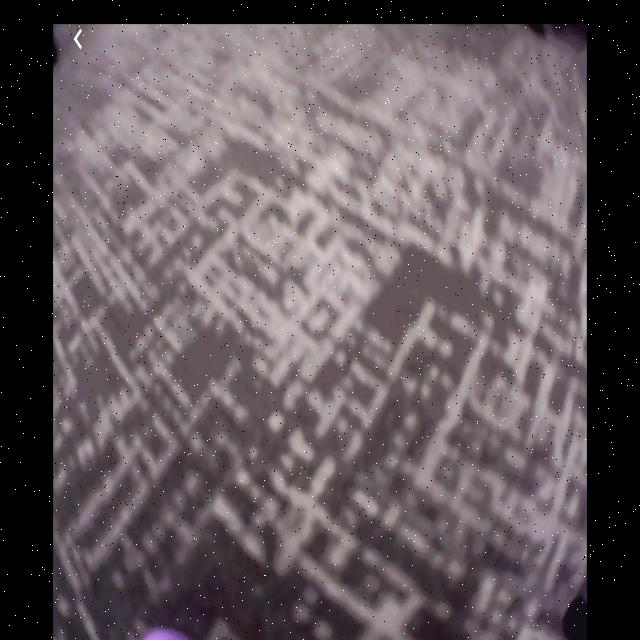ball: (140, 619, 191, 640)
